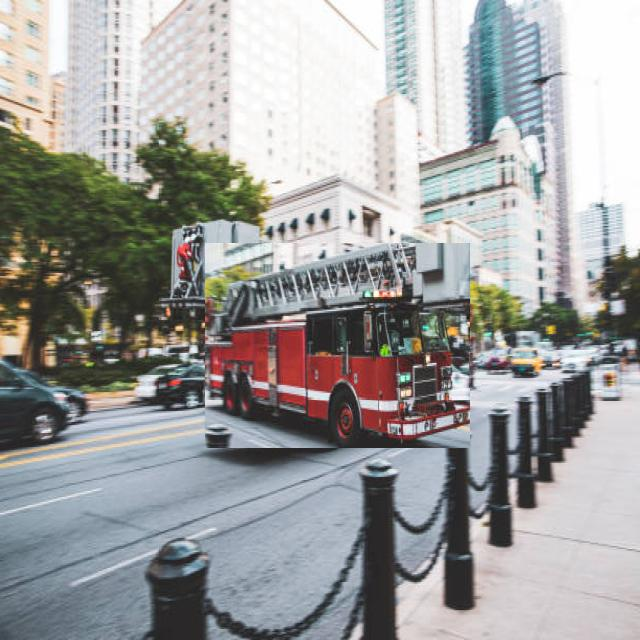emergency: (205, 244, 470, 448)
